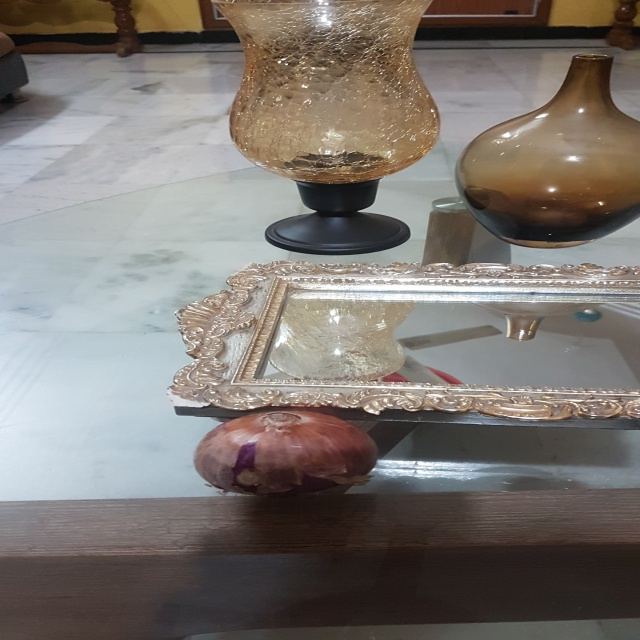onion: (190, 404, 380, 503)
